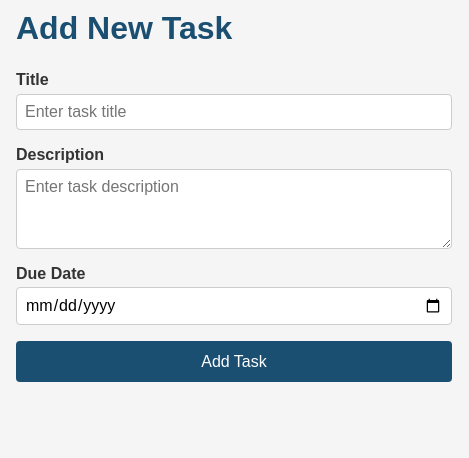
Test: AddTask Form › shows validation errors when form is submitted empty
This screenshot has width=469, height=458.
Click the button "Add Task". click: (234, 362)
box: [16, 341, 452, 382]
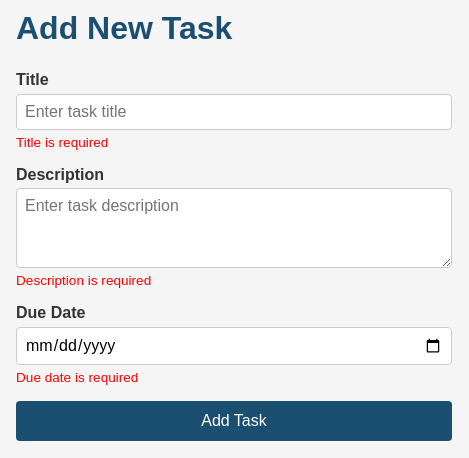
Expected: the text "Title is required" is shown, [16, 135, 108, 150]
Expected: the text "Description is required" is shown, [16, 273, 151, 288]
Expected: the text "Due date is required" is shown, [16, 370, 138, 385]
